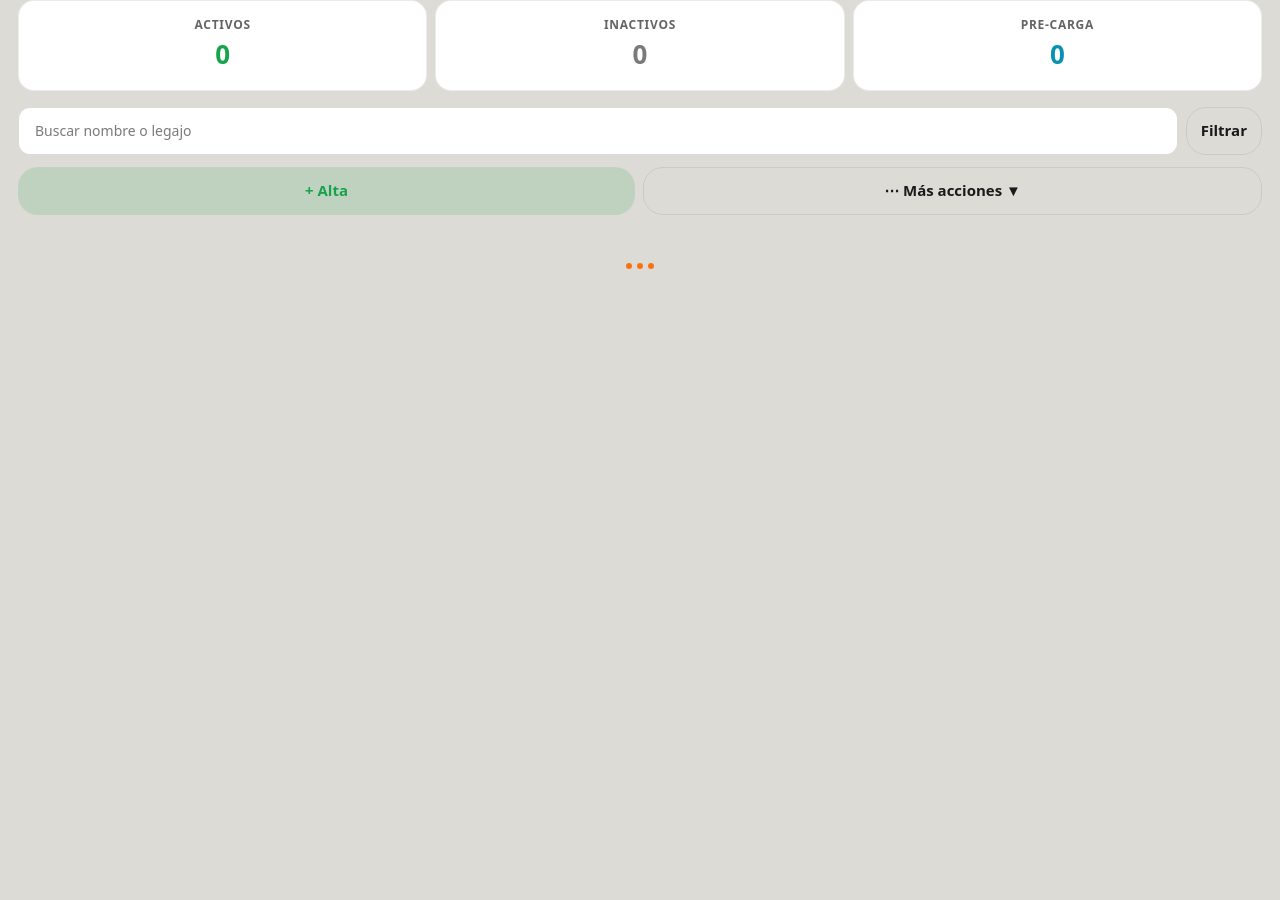
Personas — buscador y Filtrar a la vista; filtros, CSV, tarjetas y kiosco plegados
The width and height of the screenshot is (1280, 900).
Expected: the text "Importar personas desde un CSV" is not shown
Expected: the text "Modo kiosco" is not shown
Click the button "Filtrar".
click(1224, 131)  # box [1186,107,1262,155]
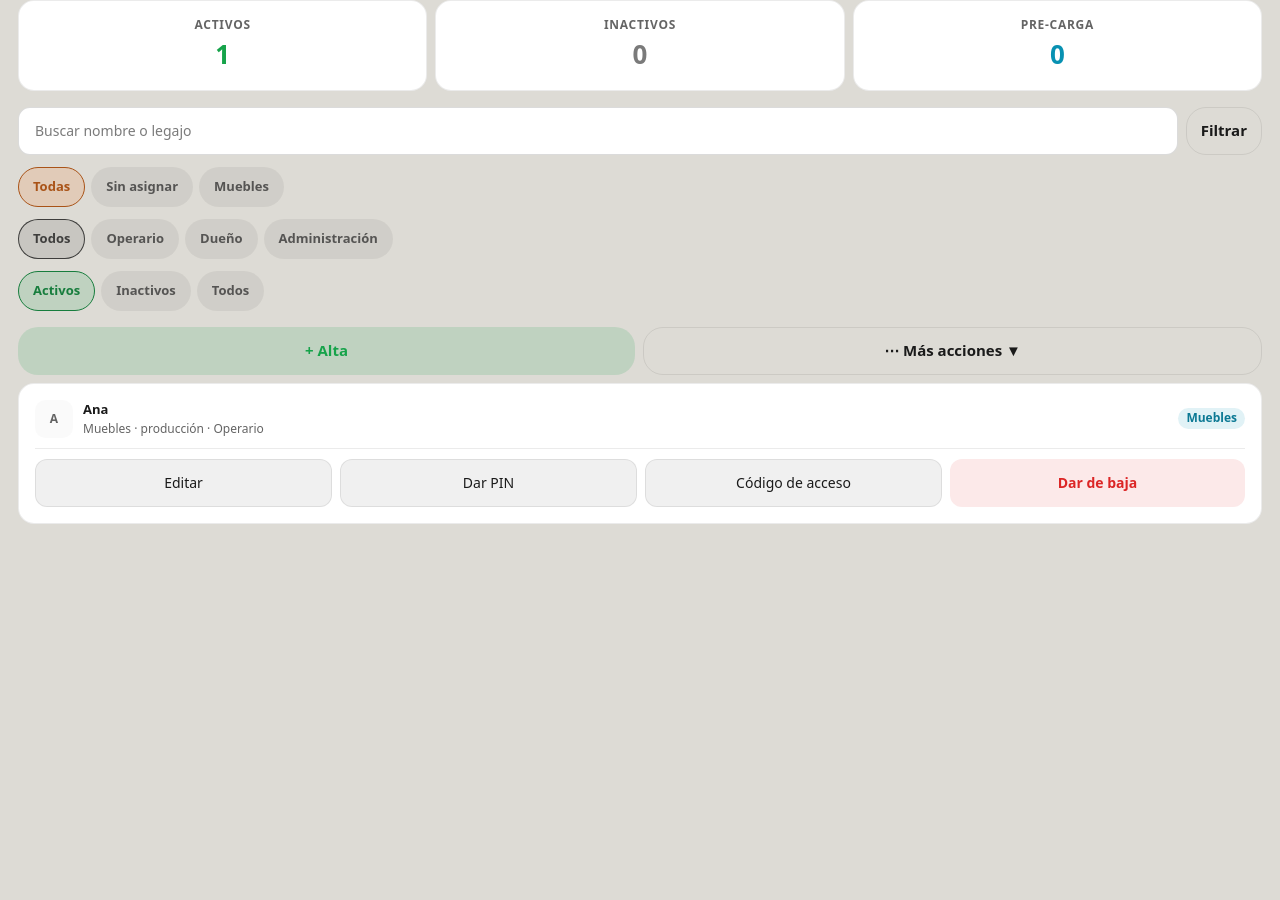
Click the button "Inactivos".
click(146, 291)  # box [101,271,191,311]
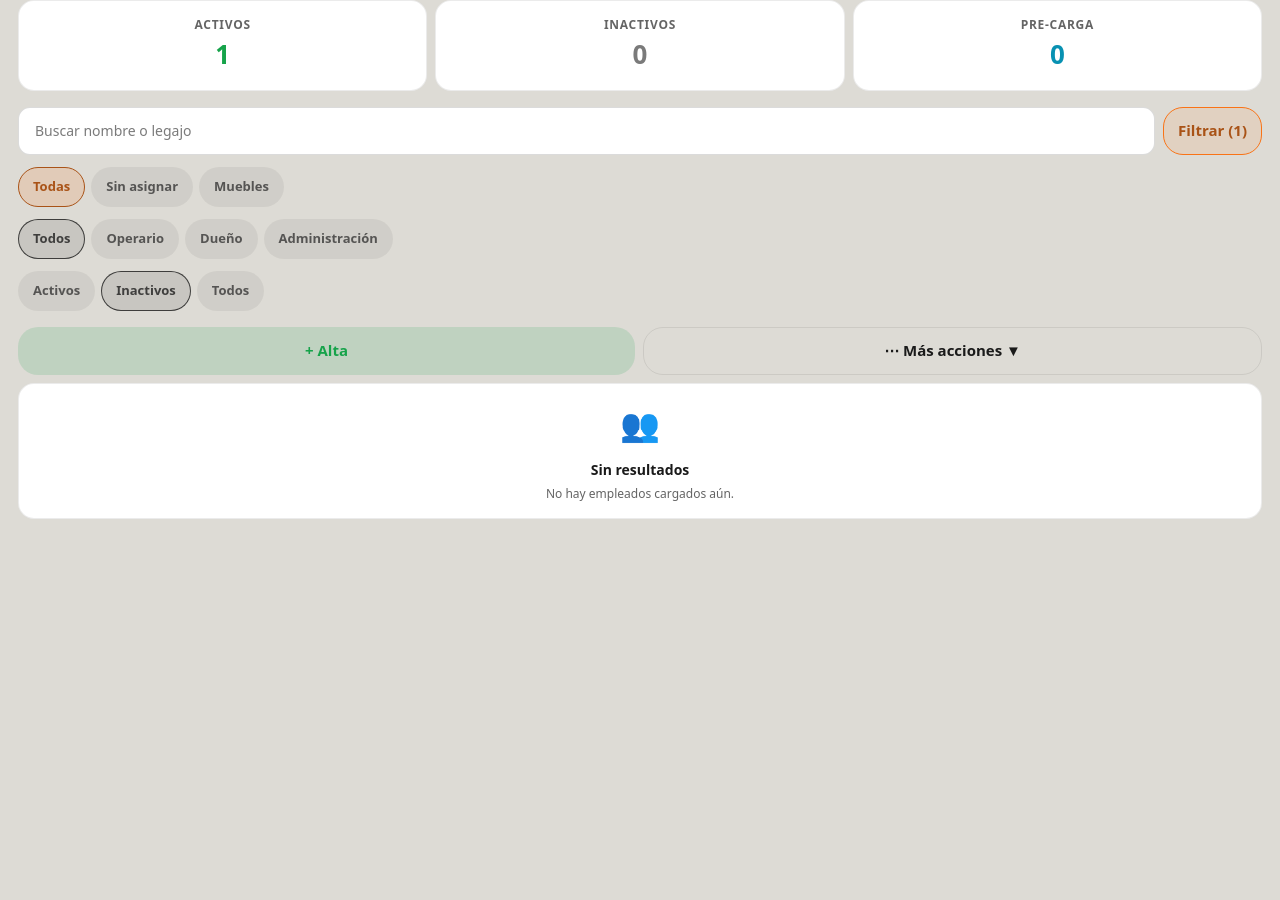
Result: the button "Filtrar (1)" is shown at [1163,107,1262,155]
Click the button "⋯ Más acciones ▼".
click(952, 351)  # box [643,327,1262,375]
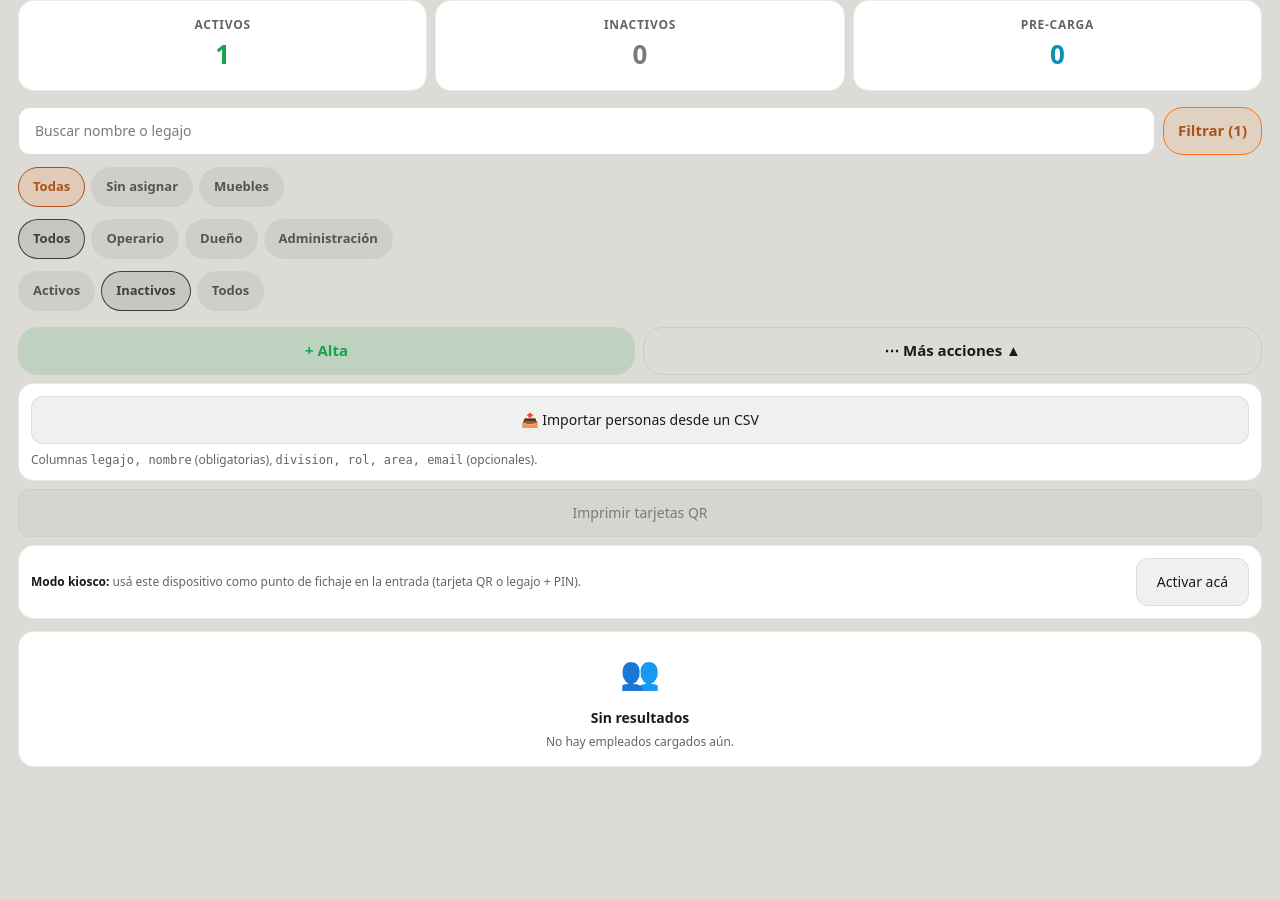
Result: the button "📤 Importar personas desde un CSV" is shown at [31,396,1249,444]
Result: the button "Imprimir tarjetas QR" is shown at [18,489,1262,537]
Result: the button "Activar acá" is shown at [1136,558,1249,606]
